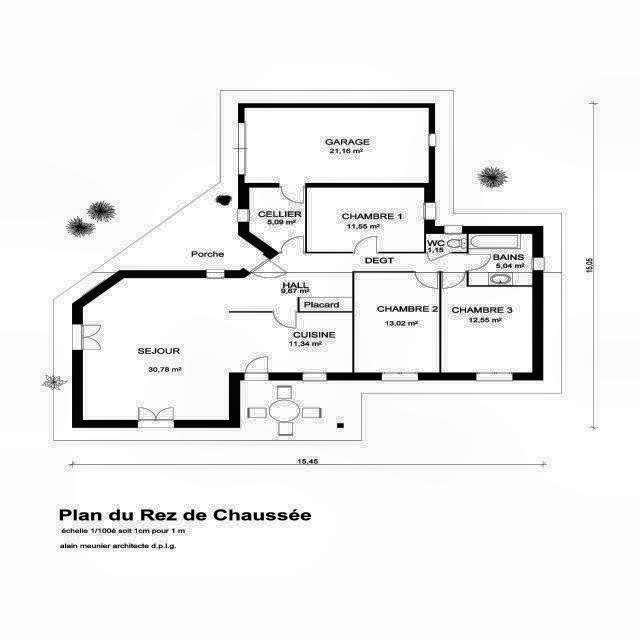room: (83, 253, 467, 420), (245, 108, 429, 183), (441, 272, 532, 373), (354, 273, 439, 373), (307, 188, 424, 252), (249, 187, 305, 252), (469, 234, 533, 285), (426, 234, 467, 252)
